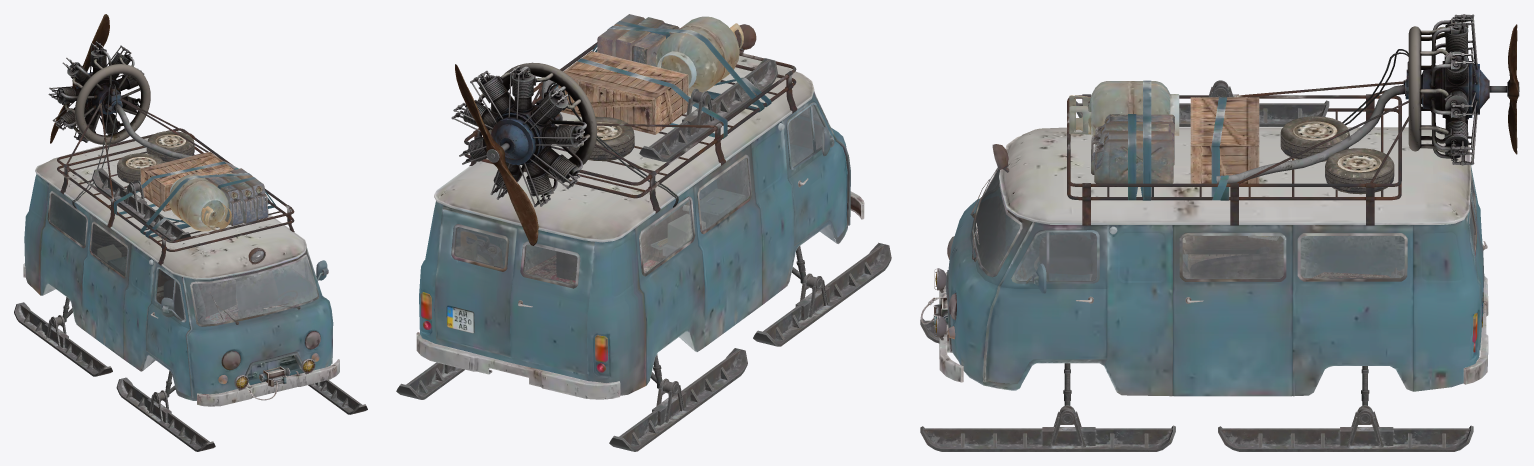
Rendered from car2-c.glb.
3 renders of one model, left to right at view 1: azimuth 30°, elevation 25°; view 2: azimuth 150°, elevation 25°; view 3: azimuth 270°, elevation 25°, orthographic. The views are drawn at different scales.
Parts seen in each view (by area): view 1: Object_4; view 2: Object_4; view 3: Object_4.
Part boxes in pixels (x1=…): Object_4: x1=14, y1=14, x2=367, y2=451; Object_4: x1=396, y1=14, x2=891, y2=451; Object_4: x1=920, y1=14, x2=1519, y2=451.
Bounding box in the file's own units: 0.8735 × 1.33 × 1.87.
7 materials, 7 textured.
